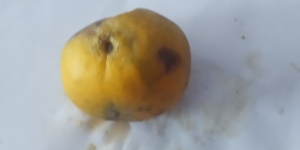BAD: (61, 9, 190, 123)
